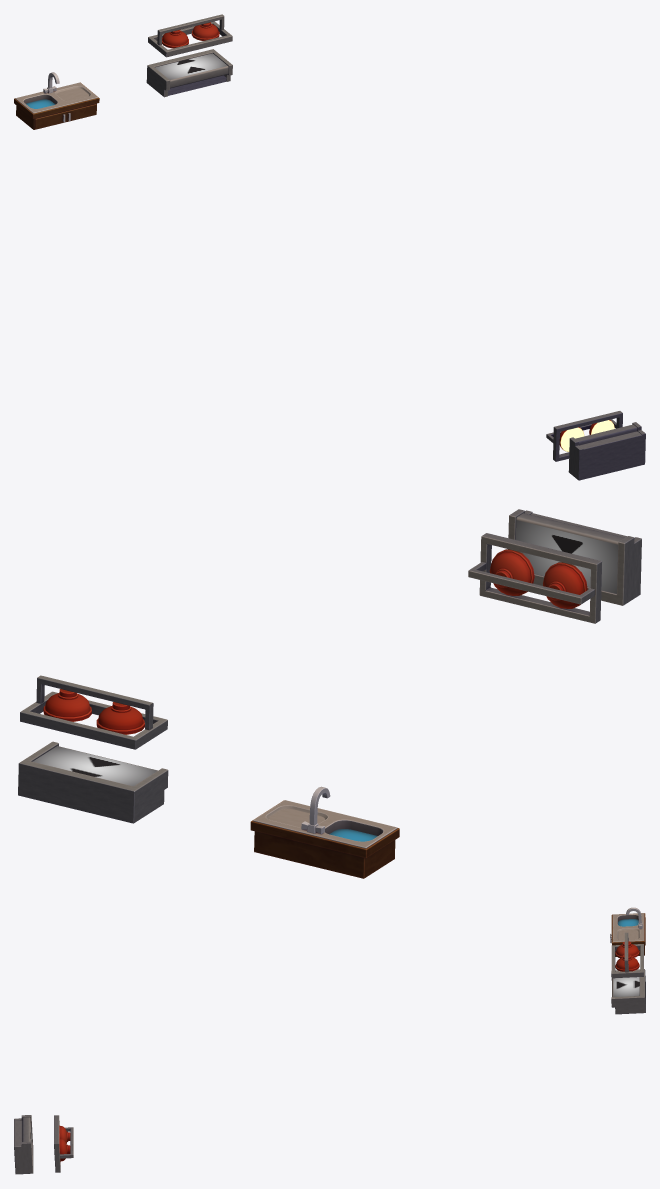
The model's file is EntregaModel.glb.
3 views of the same model, one above another, from view 1: azimuth 30°, elevation 25°; view 2: azimuth 150°, elevation 25°; view 3: azimuth 270°, elevation 25° (orthographic). The views are drawn at different scales.
Parts seen in each view (by area): view 1: Object_4.119, Object_4.204, Object_4.117; view 2: Object_4.119, Object_4.204, Object_4.115, Object_4.117, Object_4.024, Object_4.101, Object_4.175, Object_4.165, Object_4.066, Object_4.120; view 3: Object_4.119, Object_4.204, Object_4.117, Object_4.092.
Boxes of the visible parts, bbox=[...] form: Object_4.119: bbox=[546, 411, 645, 480]; Object_4.204: bbox=[14, 72, 99, 129]; Object_4.117: bbox=[155, 53, 228, 88]; Object_4.119: bbox=[468, 509, 641, 623]; Object_4.204: bbox=[250, 786, 399, 878]; Object_4.115: bbox=[18, 763, 134, 822]; Object_4.117: bbox=[32, 746, 157, 786]; Object_4.024: bbox=[20, 712, 135, 749]; Object_4.101: bbox=[134, 770, 168, 822]; Object_4.175: bbox=[98, 706, 143, 729]; Object_4.165: bbox=[45, 693, 90, 716]; Object_4.066: bbox=[37, 678, 149, 709]; Object_4.120: bbox=[20, 761, 134, 790]; Object_4.119: bbox=[14, 1115, 73, 1174]; Object_4.204: bbox=[610, 907, 645, 956]; Object_4.117: bbox=[612, 977, 639, 996]; Object_4.092: bbox=[611, 997, 645, 1014].
Bounding box in the file's own units: 16.25 × 12.11 × 37.71.
Materials: 1 (1 with a texture image).
